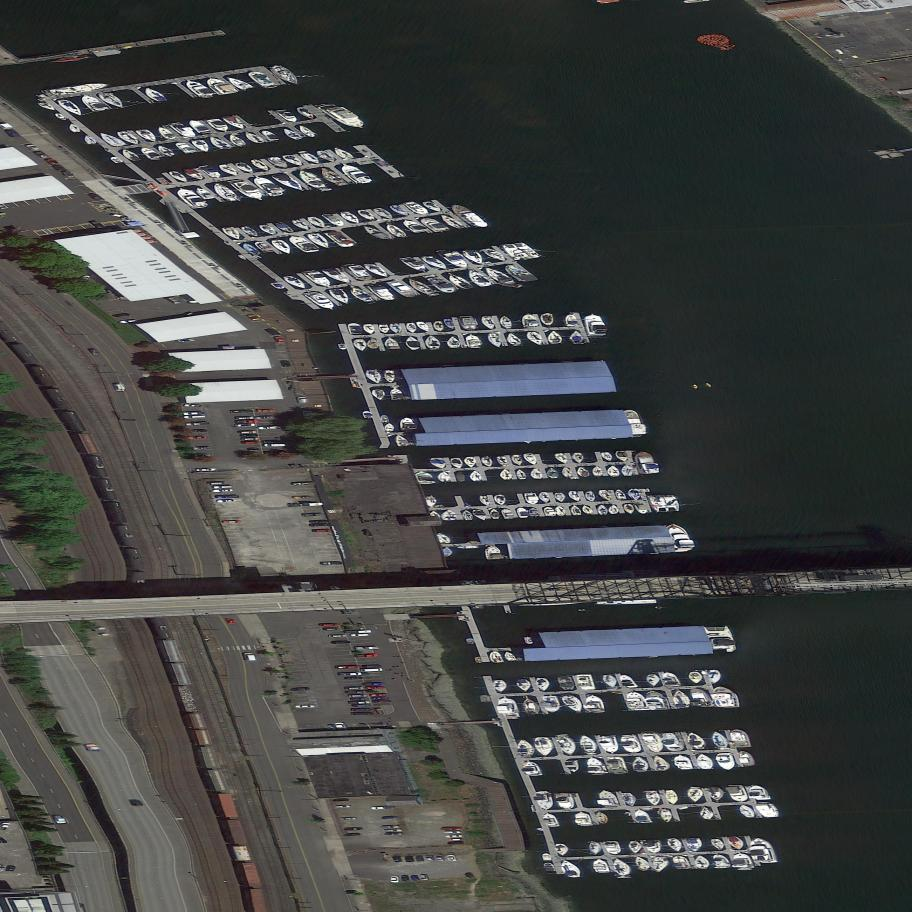ship: (313, 95, 374, 138), (442, 195, 492, 236), (657, 515, 696, 561), (169, 179, 212, 217), (264, 57, 307, 94), (247, 169, 289, 205), (335, 155, 375, 192), (227, 173, 269, 208), (199, 69, 239, 104), (301, 284, 342, 318), (269, 166, 310, 199), (39, 80, 114, 98), (291, 162, 330, 196), (433, 242, 474, 274), (284, 228, 323, 261), (499, 257, 538, 290), (746, 831, 779, 870), (322, 223, 360, 256), (52, 92, 91, 124), (206, 176, 243, 209), (479, 259, 517, 291), (697, 624, 737, 654), (340, 256, 377, 288), (179, 72, 216, 104), (498, 239, 545, 264), (244, 64, 279, 96), (94, 84, 129, 116), (300, 263, 336, 294), (75, 88, 111, 119), (313, 160, 349, 191), (401, 270, 436, 301), (364, 278, 400, 308), (425, 270, 460, 300), (384, 275, 419, 305), (165, 115, 200, 145), (415, 210, 451, 239), (461, 263, 495, 293), (457, 242, 492, 271), (324, 281, 358, 310), (95, 124, 127, 154), (320, 262, 355, 289), (344, 280, 376, 308), (444, 267, 475, 295), (305, 226, 336, 254), (203, 111, 234, 139), (361, 257, 393, 284), (267, 233, 298, 260), (360, 219, 391, 246), (139, 81, 170, 108), (401, 195, 433, 221), (436, 208, 468, 234), (418, 251, 452, 275), (400, 252, 431, 278), (381, 217, 410, 244), (624, 686, 650, 716), (398, 213, 428, 239), (725, 778, 751, 808), (582, 310, 607, 341), (133, 122, 162, 148), (197, 159, 226, 185), (218, 220, 247, 246), (641, 728, 666, 758), (619, 729, 644, 759), (497, 692, 522, 722), (221, 110, 251, 135), (225, 70, 255, 95), (560, 689, 585, 718), (115, 125, 144, 150), (554, 730, 578, 760), (281, 271, 311, 295), (481, 243, 511, 267), (264, 151, 294, 175), (294, 145, 324, 169), (647, 493, 683, 513), (185, 114, 212, 139), (728, 724, 752, 752), (715, 748, 739, 776), (337, 205, 365, 229), (711, 686, 741, 708), (597, 731, 621, 758), (182, 162, 209, 186), (190, 182, 217, 206), (240, 126, 268, 149), (117, 144, 145, 167), (232, 156, 260, 179), (616, 669, 640, 695), (275, 104, 301, 128), (206, 131, 232, 155), (166, 165, 192, 189), (313, 145, 340, 168), (330, 142, 357, 165), (280, 149, 308, 171), (606, 752, 629, 778), (305, 211, 331, 234), (321, 209, 347, 232), (559, 856, 582, 882), (577, 730, 599, 757), (670, 685, 692, 712), (216, 159, 243, 181), (643, 690, 671, 711), (189, 134, 214, 157), (153, 122, 178, 145), (293, 102, 319, 124), (248, 154, 274, 176), (687, 687, 714, 708), (293, 121, 320, 142), (659, 732, 687, 752), (534, 788, 556, 813), (355, 204, 380, 226), (172, 137, 197, 159), (272, 217, 297, 239), (709, 727, 730, 753), (371, 203, 397, 224), (47, 53, 92, 65), (226, 129, 249, 152), (251, 236, 275, 258), (137, 142, 161, 164), (290, 214, 314, 236), (736, 746, 757, 771), (420, 196, 445, 217), (256, 219, 281, 240), (154, 140, 177, 162), (533, 736, 557, 757), (239, 239, 263, 260), (239, 221, 263, 242), (612, 855, 633, 879), (581, 694, 606, 714), (279, 124, 304, 144), (583, 757, 609, 776), (387, 201, 413, 220), (593, 789, 620, 807), (726, 832, 746, 855), (652, 751, 671, 775), (553, 792, 578, 810), (737, 800, 757, 822), (695, 750, 714, 773), (600, 670, 619, 693), (620, 788, 639, 811), (486, 329, 505, 352), (519, 697, 543, 715), (539, 695, 563, 713), (258, 126, 280, 145), (566, 326, 585, 348), (633, 852, 652, 874), (671, 754, 695, 771), (731, 852, 755, 869), (707, 666, 725, 688), (479, 312, 497, 334), (755, 803, 781, 818), (747, 785, 771, 801), (657, 805, 675, 826), (37, 98, 58, 116), (685, 732, 707, 749), (629, 756, 651, 773), (543, 809, 560, 831), (621, 409, 644, 425), (64, 119, 84, 137), (79, 131, 99, 149), (403, 333, 421, 353), (515, 739, 536, 756), (576, 674, 597, 691), (664, 787, 681, 808), (522, 449, 539, 470), (457, 315, 479, 331), (393, 431, 410, 451), (539, 309, 556, 329), (693, 852, 710, 872), (522, 760, 543, 776), (633, 450, 657, 464), (414, 470, 436, 485), (670, 855, 692, 870), (643, 791, 664, 806), (573, 811, 594, 826), (696, 806, 717, 821), (706, 787, 728, 801), (52, 109, 71, 125), (510, 451, 526, 470), (627, 485, 643, 504), (633, 499, 649, 518), (498, 313, 514, 332), (661, 671, 681, 686), (557, 676, 577, 691), (525, 331, 545, 346), (422, 335, 442, 350), (685, 837, 705, 852), (711, 854, 731, 869), (269, 278, 287, 294), (107, 152, 125, 168), (588, 839, 604, 857), (534, 677, 553, 692), (645, 839, 664, 854), (632, 809, 652, 823), (665, 838, 685, 852), (479, 453, 495, 470), (364, 369, 382, 384), (428, 507, 443, 525), (404, 319, 419, 337), (442, 315, 457, 333), (484, 545, 502, 560), (592, 858, 610, 873), (544, 330, 563, 344), (464, 334, 483, 348), (604, 841, 623, 855), (640, 463, 662, 475), (625, 423, 647, 435), (503, 648, 518, 665), (564, 759, 582, 773), (515, 678, 533, 692), (686, 671, 705, 684), (500, 506, 515, 522), (560, 463, 574, 480), (514, 466, 528, 483), (491, 680, 509, 693), (627, 841, 645, 854), (428, 457, 447, 469), (493, 492, 507, 508), (416, 319, 430, 335), (564, 312, 578, 328), (478, 493, 492, 509), (488, 650, 505, 663), (644, 674, 661, 687), (687, 789, 704, 802), (399, 417, 416, 430), (496, 453, 509, 470), (383, 337, 400, 350), (505, 332, 522, 345), (497, 281, 524, 289), (444, 336, 462, 348), (516, 505, 529, 521), (522, 314, 538, 327), (594, 812, 611, 824), (370, 389, 387, 401), (388, 388, 405, 400), (554, 844, 571, 856), (620, 464, 635, 477), (614, 487, 627, 502), (553, 503, 566, 518), (461, 508, 474, 523), (436, 471, 452, 483), (524, 493, 540, 505), (352, 339, 368, 351), (471, 509, 487, 521), (436, 532, 452, 544), (553, 453, 570, 464), (347, 323, 364, 334), (440, 510, 457, 521), (425, 494, 438, 508), (606, 465, 621, 477), (468, 470, 483, 482), (571, 452, 586, 464), (431, 320, 446, 332), (545, 468, 561, 479), (709, 839, 725, 850), (574, 467, 591, 477), (623, 502, 635, 516), (614, 451, 629, 462), (449, 458, 464, 469), (498, 469, 513, 480), (528, 468, 543, 479), (385, 369, 396, 384), (598, 490, 613, 501), (585, 489, 596, 504), (537, 492, 552, 503), (388, 323, 403, 334), (599, 452, 615, 462), (455, 470, 467, 483), (463, 457, 477, 468), (553, 492, 567, 503), (568, 505, 582, 516), (366, 338, 380, 349), (477, 694, 493, 703), (442, 546, 454, 558), (236, 252, 249, 263), (591, 466, 604, 477), (568, 491, 581, 502), (543, 862, 557, 872), (489, 508, 500, 520), (607, 504, 620, 514), (595, 505, 608, 515), (581, 505, 594, 515), (362, 324, 375, 334), (383, 423, 396, 432), (543, 507, 556, 516), (377, 324, 390, 333), (315, 187, 334, 193), (523, 636, 535, 645), (360, 410, 373, 418), (528, 508, 540, 516), (456, 545, 480, 549), (541, 853, 553, 861), (380, 414, 390, 423), (703, 382, 715, 388), (465, 638, 476, 644), (338, 343, 347, 350), (692, 384, 700, 389)
small-vehicle: (87, 189, 104, 205), (89, 217, 106, 233), (264, 325, 283, 339), (164, 295, 184, 307), (34, 148, 51, 162), (77, 272, 92, 286), (246, 311, 260, 324), (50, 814, 68, 824), (4, 129, 22, 139), (300, 513, 329, 518), (24, 143, 40, 152), (52, 164, 68, 173), (118, 318, 137, 325), (44, 158, 60, 166), (323, 723, 337, 732), (333, 722, 347, 731), (353, 653, 378, 658), (338, 672, 362, 677), (216, 494, 240, 499), (243, 652, 256, 661), (113, 383, 126, 392), (211, 488, 234, 493), (182, 411, 205, 416), (112, 312, 131, 318), (129, 799, 145, 806), (84, 744, 100, 751), (88, 348, 102, 356), (318, 623, 340, 628), (344, 630, 371, 634), (241, 440, 262, 445), (186, 422, 212, 426), (369, 806, 395, 810), (355, 646, 380, 650), (235, 420, 260, 424), (191, 446, 211, 451), (296, 397, 310, 404), (293, 704, 317, 708), (337, 665, 361, 669), (184, 415, 208, 419), (404, 855, 416, 863), (176, 338, 195, 343), (362, 682, 385, 686), (257, 426, 280, 430), (262, 440, 285, 444), (342, 827, 365, 831), (320, 561, 342, 565), (264, 443, 286, 447), (351, 708, 373, 712), (351, 712, 373, 716), (225, 617, 237, 624), (364, 686, 385, 690), (348, 694, 369, 698), (350, 700, 371, 704), (311, 529, 332, 533), (255, 416, 276, 420), (196, 468, 217, 472), (418, 874, 430, 881), (235, 423, 256, 427), (280, 360, 292, 367), (256, 409, 277, 413), (331, 641, 351, 645), (344, 687, 364, 691), (346, 690, 366, 694), (371, 696, 391, 700), (292, 495, 312, 499), (238, 434, 258, 438), (308, 520, 328, 524), (213, 485, 233, 489), (216, 499, 236, 503), (222, 520, 242, 524), (308, 523, 328, 527), (349, 697, 369, 701), (291, 687, 311, 691), (447, 840, 467, 844), (4, 865, 15, 872), (392, 856, 403, 863), (464, 872, 475, 879), (328, 634, 347, 638), (344, 676, 363, 680), (291, 482, 310, 486), (241, 437, 260, 441), (208, 481, 227, 485), (332, 798, 351, 802), (381, 825, 400, 829), (384, 832, 403, 836), (183, 404, 202, 408), (351, 633, 369, 637), (236, 416, 254, 420), (380, 816, 398, 820), (445, 834, 463, 838), (273, 337, 285, 343), (400, 875, 410, 882), (230, 410, 253, 413), (334, 805, 351, 809), (340, 817, 357, 821), (344, 833, 361, 837), (425, 855, 436, 861), (371, 693, 387, 697), (371, 700, 392, 703), (188, 429, 209, 432), (440, 827, 461, 830), (324, 627, 339, 631), (448, 838, 463, 842), (390, 877, 400, 883), (415, 856, 425, 862), (435, 855, 445, 861), (447, 855, 457, 861), (361, 665, 380, 668), (383, 829, 402, 832), (443, 831, 462, 834), (189, 436, 207, 439), (239, 431, 257, 434), (410, 876, 420, 881)
